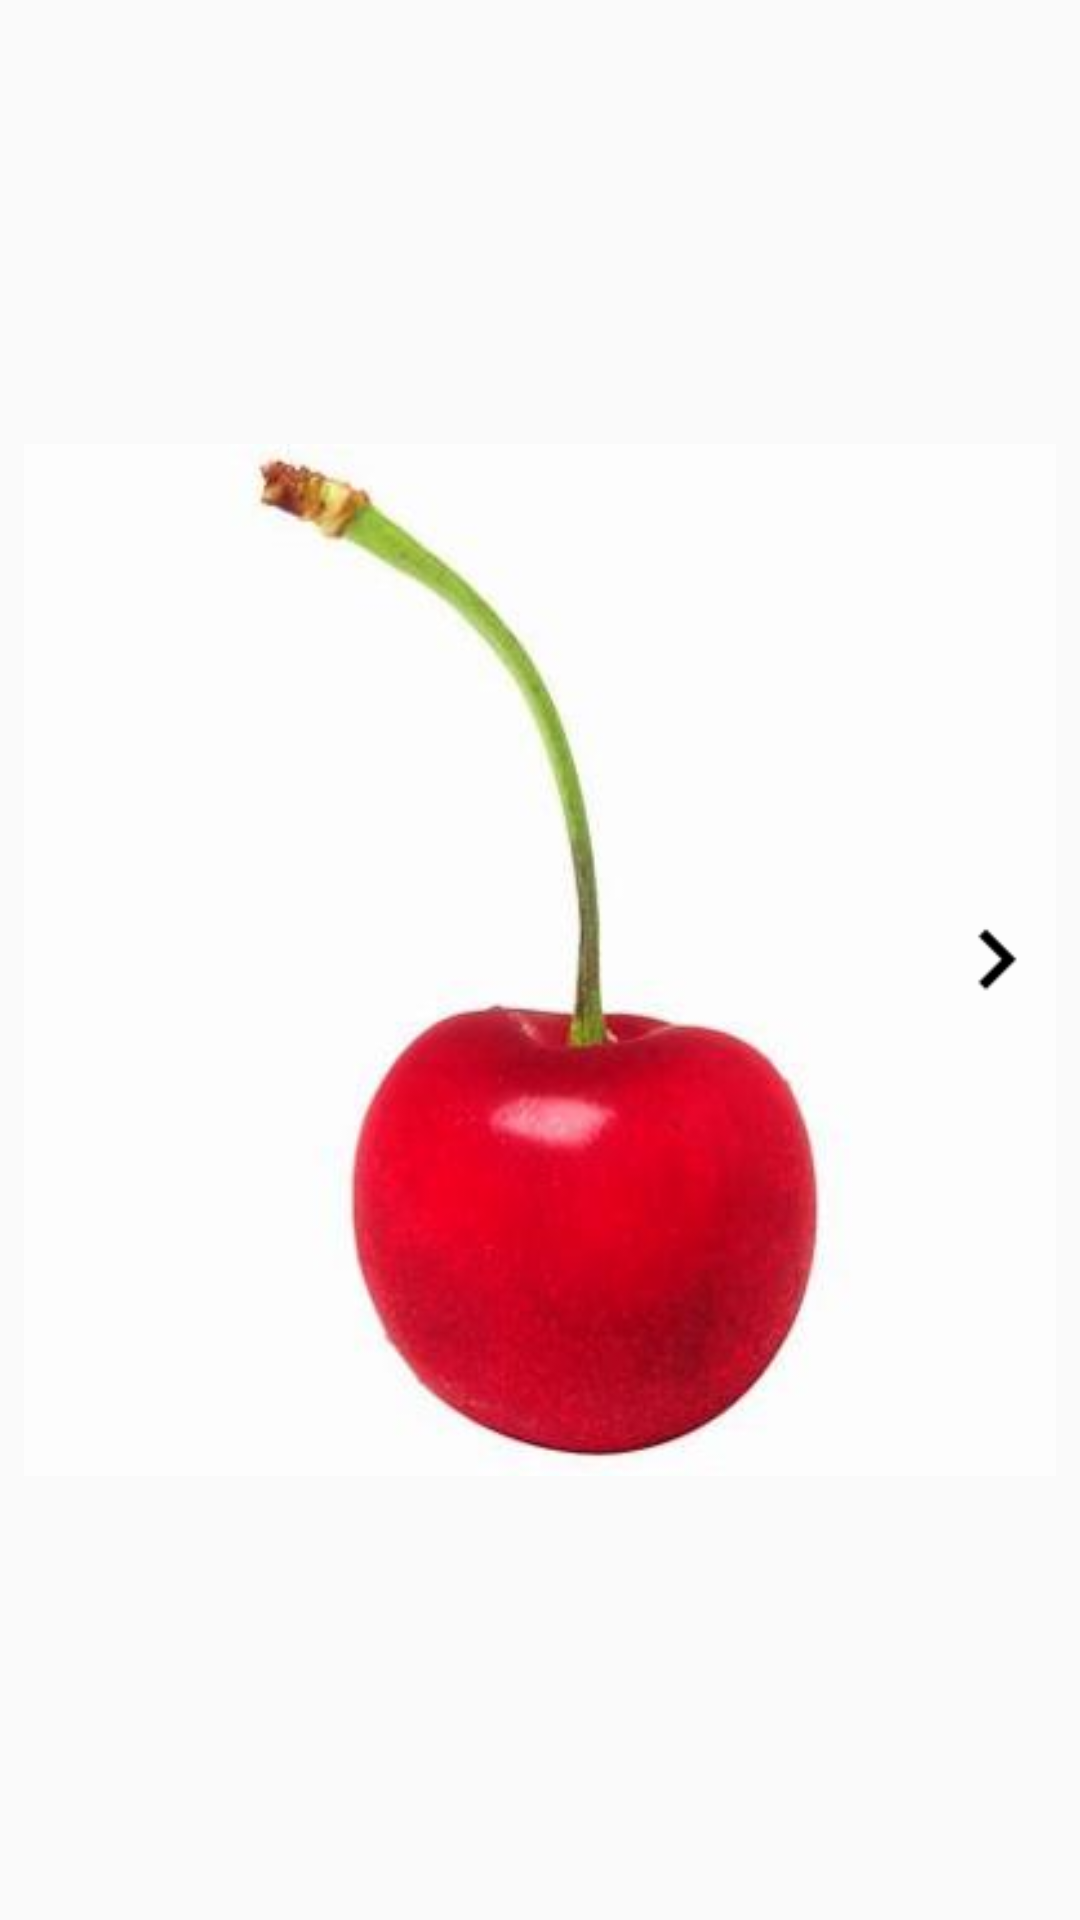

Named icons in this screenshot (1080px x 1920px) and their bounding boxes, {"x1": x1, "y1": y1, "x2": x2, "y2": y2}:
keyboard arrow right: {"x1": 978, "y1": 929, "x2": 1017, "y2": 990}
